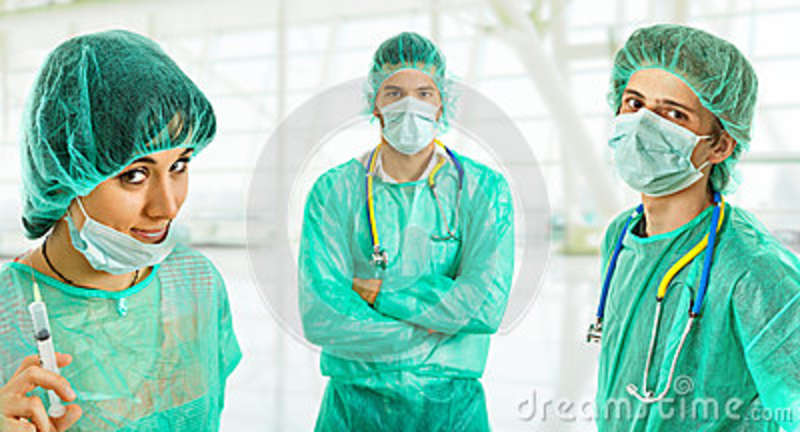mask: (605, 112, 708, 195), (71, 223, 187, 281), (377, 98, 445, 151)
